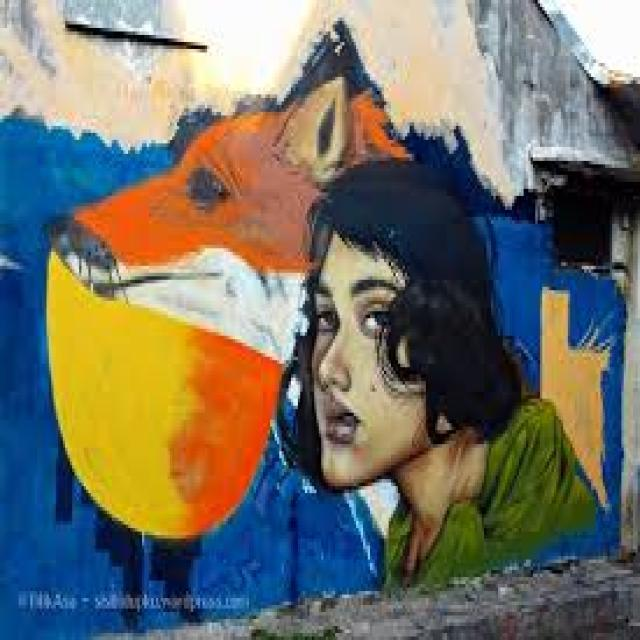-: (0, 18, 625, 640)
